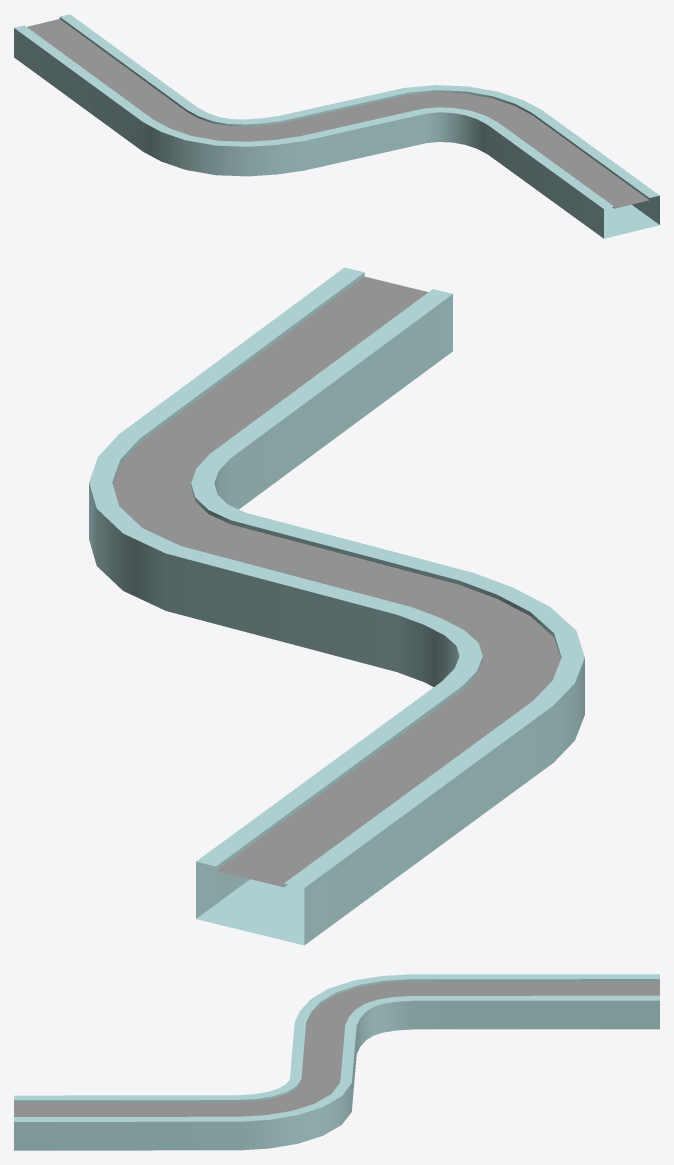
Rendered from curve_leftt#1.fbx.
3 views of the same model, one above another, from view 1: azimuth 30°, elevation 25°; view 2: azimuth 150°, elevation 25°; view 3: azimuth 270°, elevation 25° (orthographic). The views are drawn at different scales.
Parts seen in each view (by area): view 1: curve_left#1; view 2: curve_left#1; view 3: curve_left#1.
Part boxes in pixels (box(x1,y1,x2,y2)): curve_left#1: box(14, 14, 659, 238); curve_left#1: box(89, 267, 584, 945); curve_left#1: box(14, 974, 659, 1150).
Bounding box in the file's own units: 1135 × 103 × 2096.
